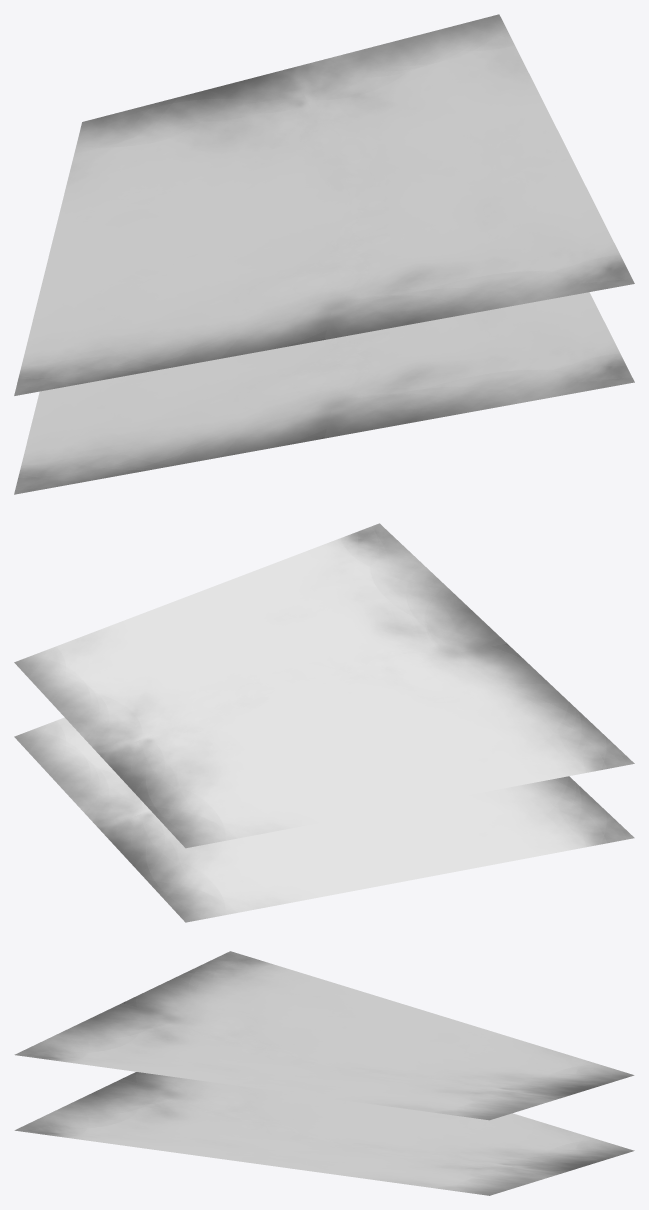
File: CourseWinter_CurveFloor_6_17.fbx
The picture shows the model from 3 angles, top to bottom: view 1: azimuth 30°, elevation 25°; view 2: azimuth 150°, elevation 25°; view 3: azimuth 270°, elevation 25°; orthographic projection. The views are drawn at different scales.
Visible parts, largest first — view 1: polySurface690; view 2: polySurface690; view 3: polySurface690.
Part boxes in pixels (bbox=[...]): polySurface690: bbox=[14, 14, 634, 494]; polySurface690: bbox=[14, 523, 634, 922]; polySurface690: bbox=[14, 951, 634, 1195].
Size of the model in its own units: 6.95 by 2 by 7.45.
1 material, 1 textured.
